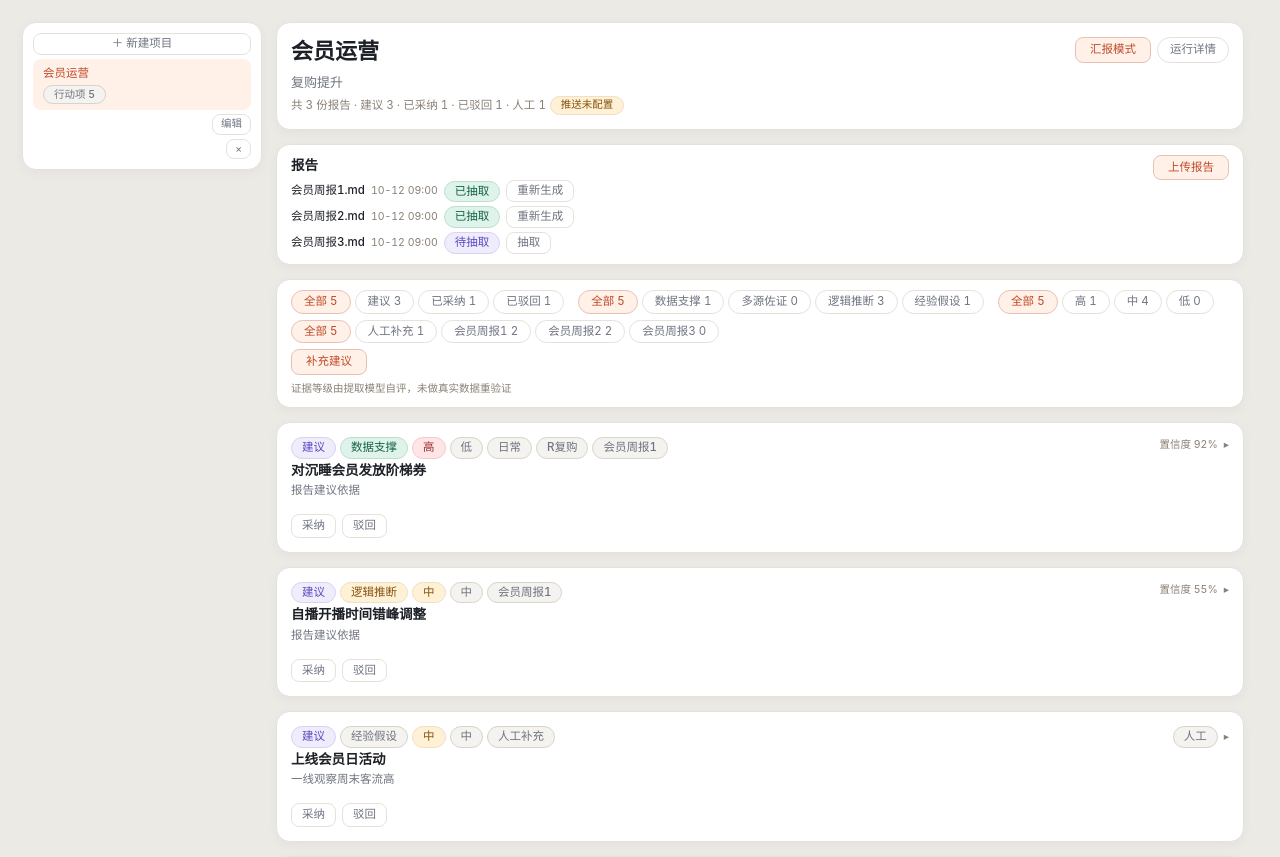
Test: 行动项卡：卡头 aria-expanded 展开证据区（事实引用/推导/预期效果/警示）
Expected: the text "推导过程" is not shown
Click the button "建议 数据支撑 高 低 日常 R复购 会员周报1 对沉睡会员发放阶梯券 报告建议依据 置信度 92% ▸" at [314, 448], box [277, 424, 1243, 514]
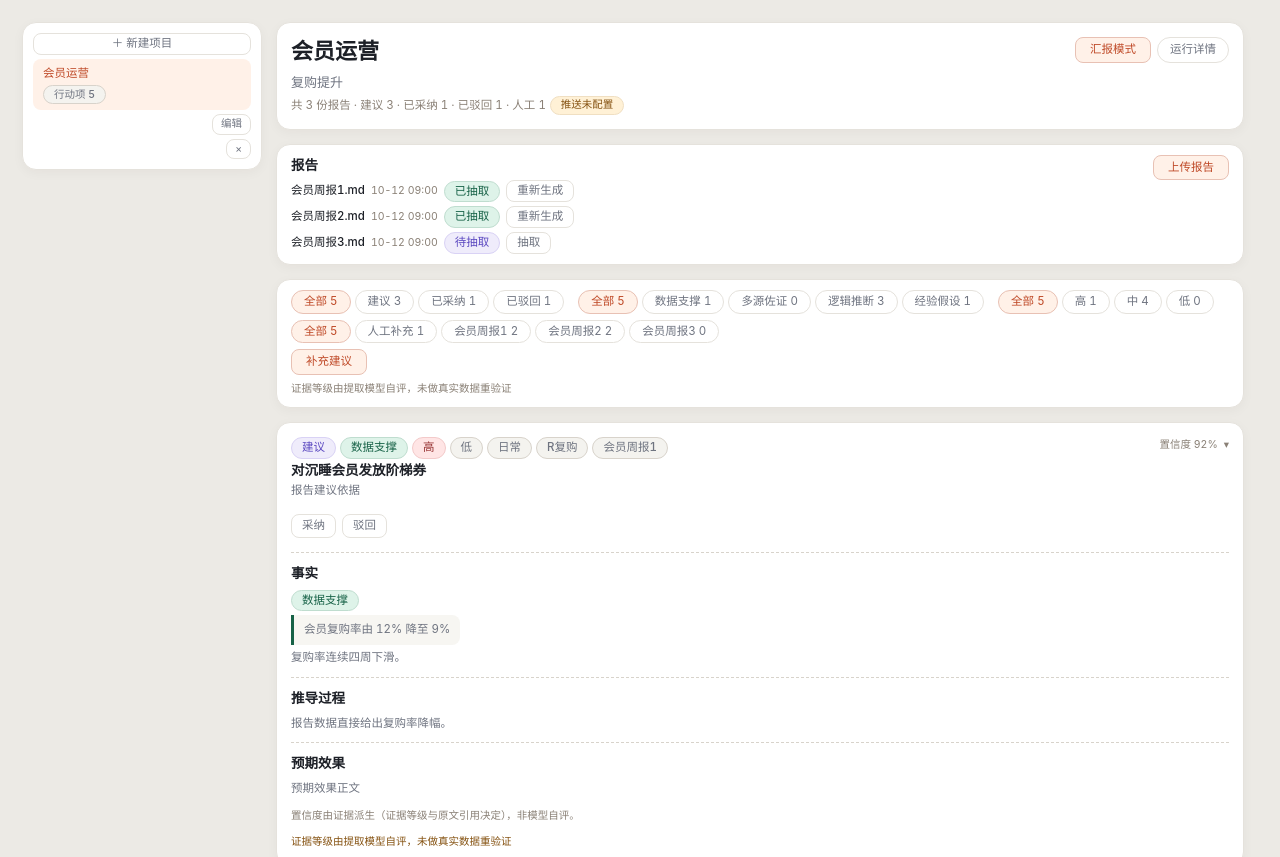
Result: the text "会员复购率由 12% 降至 9%" is shown at [291, 615, 460, 645]
Result: the heading "事实" is shown at [291, 565, 318, 581]
Result: the heading "推导过程" is shown at [291, 690, 345, 706]
